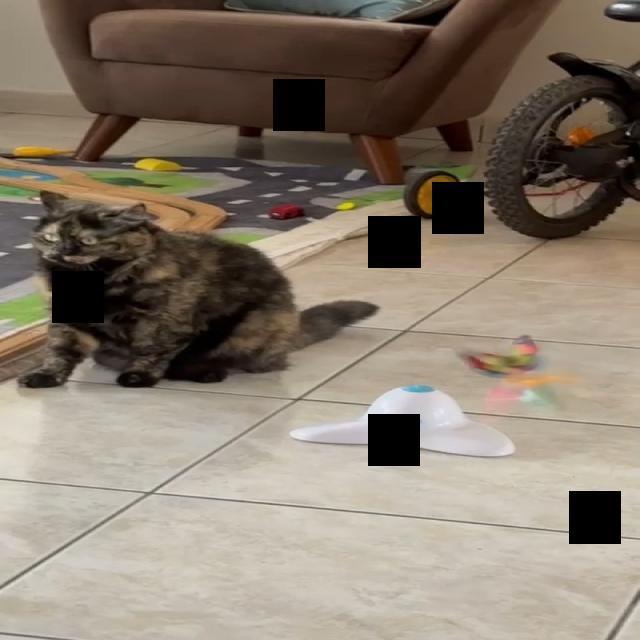authorized: (17, 188, 380, 388)
